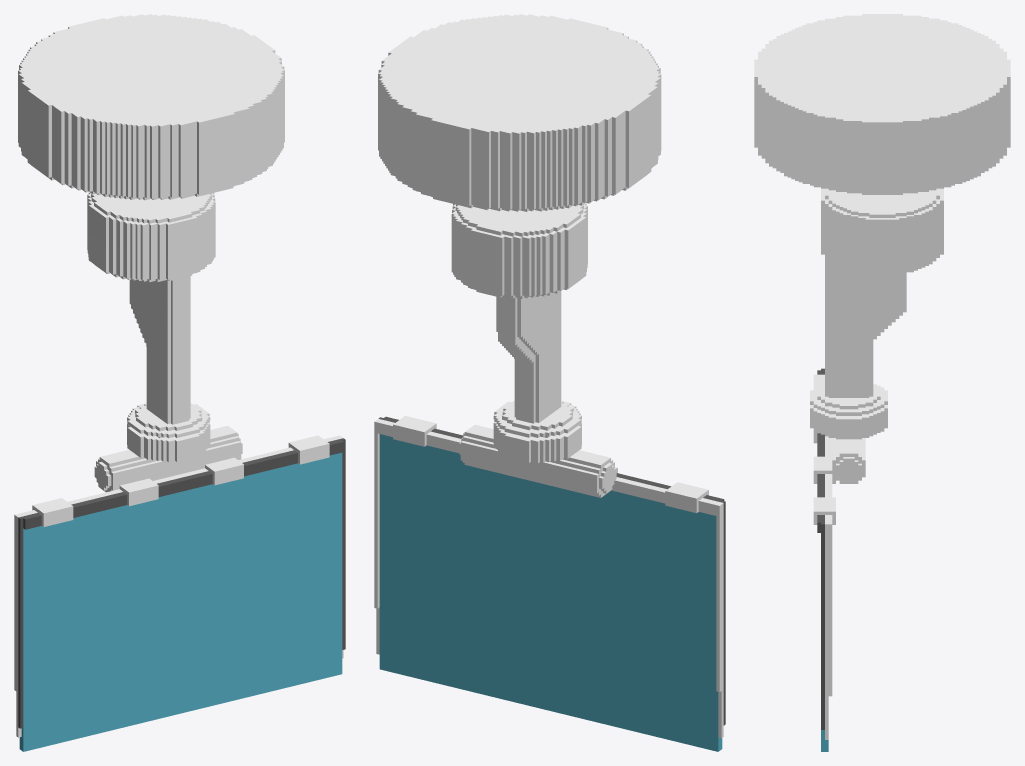
Rendered from Monitor4.fbx.
The picture shows the model from 3 angles, left to right: view 1: azimuth 30°, elevation 25°; view 2: azimuth 150°, elevation 25°; view 3: azimuth 270°, elevation 25°; orthographic projection. The views are drawn at different scales.
Parts seen in each view (by area): view 1: Monitor4.001, Monitor4.002, Monitor4.003, Monitor4.000, Monitor4.005; view 2: Monitor4.001, Monitor4.002, Monitor4.003, Monitor4.000, Monitor4.005; view 3: Monitor4.002, Monitor4.003, Monitor4.005, Monitor4.000.
Boxes of the visible parts, <box> form: Monitor4.001: <box>19,452,342,751</box>; Monitor4.002: <box>18,14,284,200</box>; Monitor4.003: <box>87,222,215,462</box>; Monitor4.000: <box>14,425,345,737</box>; Monitor4.005: <box>87,192,215,252</box>; Monitor4.001: <box>379,434,722,751</box>; Monitor4.002: <box>378,14,661,211</box>; Monitor4.003: <box>451,235,587,463</box>; Monitor4.000: <box>374,415,725,738</box>; Monitor4.005: <box>451,203,587,267</box>; Monitor4.002: <box>754,14,1010,194</box>; Monitor4.003: <box>810,227,943,439</box>; Monitor4.005: <box>821,188,943,246</box>; Monitor4.000: <box>813,368,865,739</box>.
Size of the model in its own units: 9.9 by 18.02 by 6.9.
